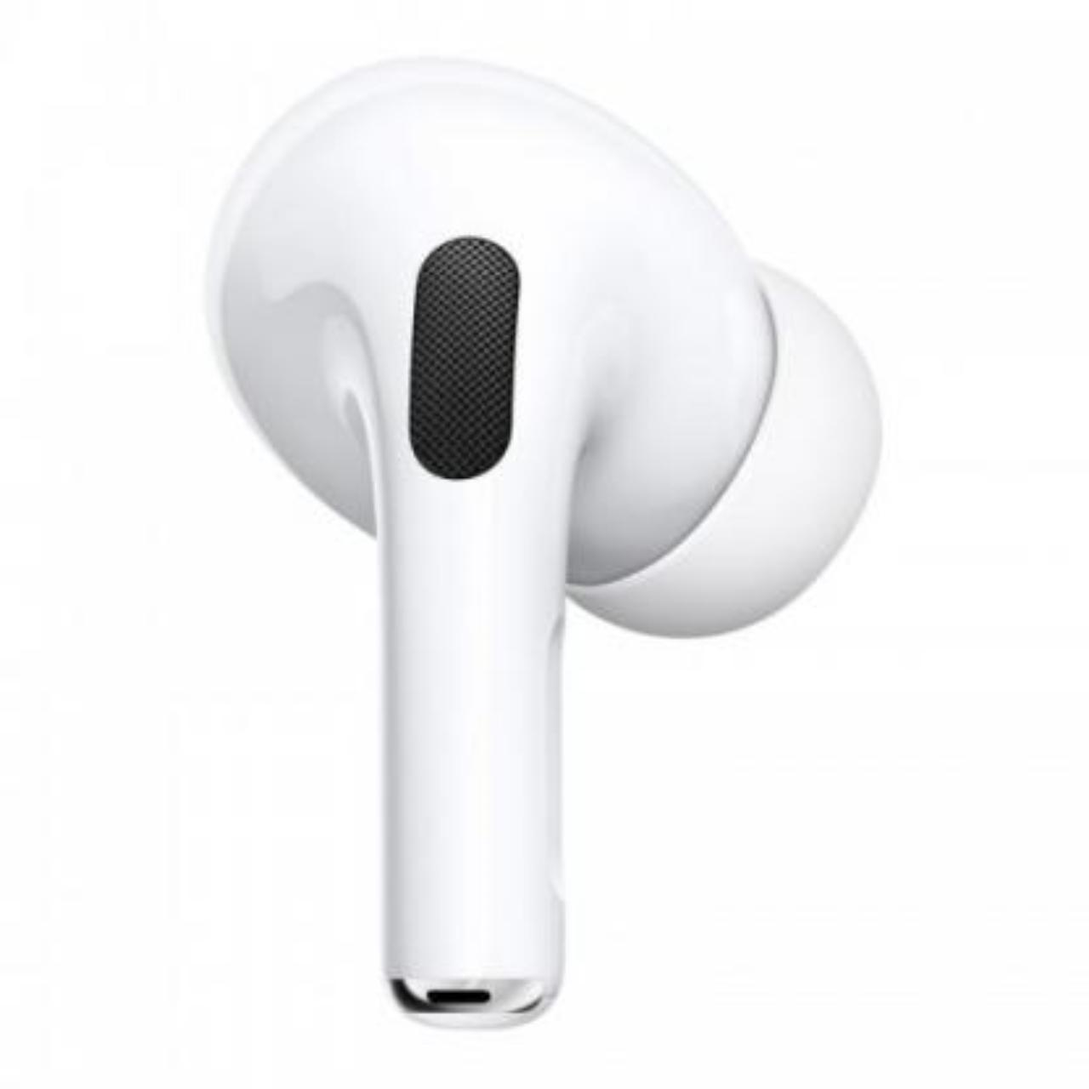Airpods_Units: (187, 31, 917, 1043)
